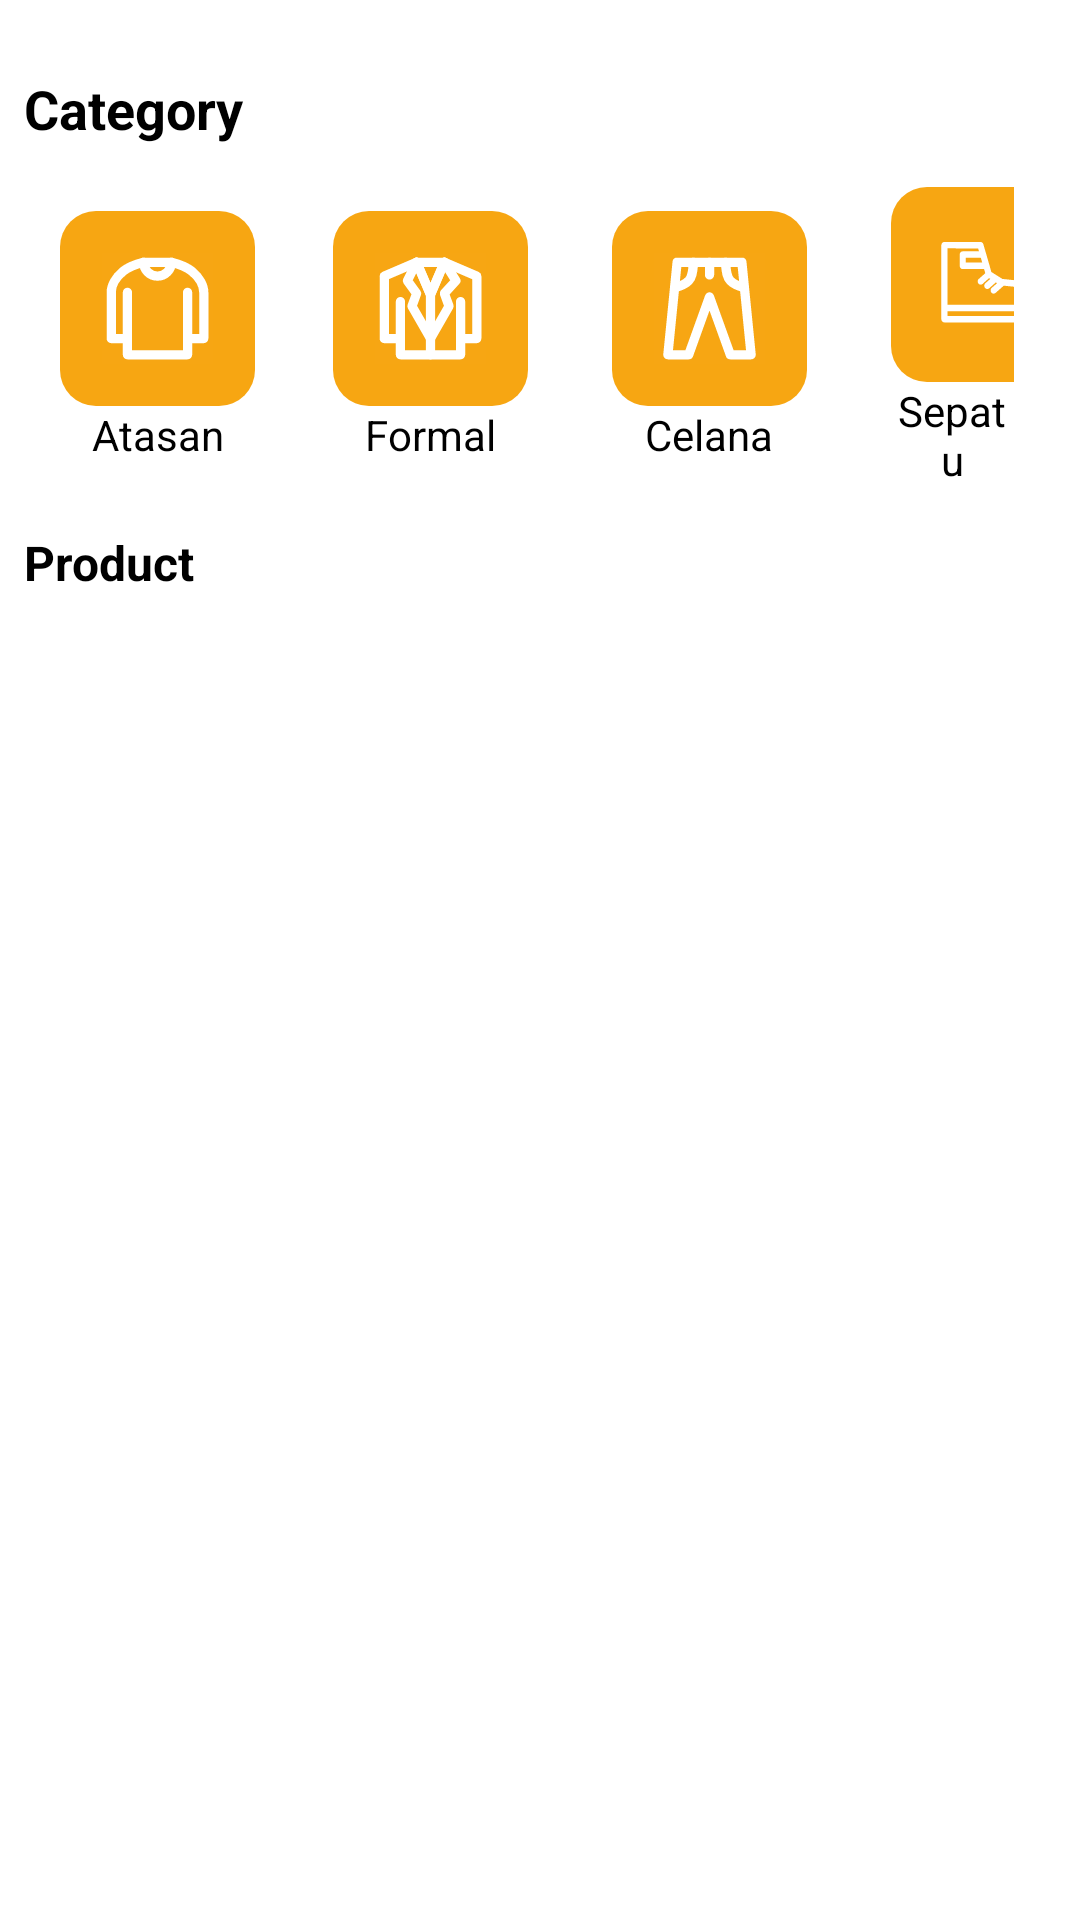

Icon click points for this 1080*1920 phone screenshot, format point (x, y):
suit: point (430, 308)
tshirt: point (157, 308)
